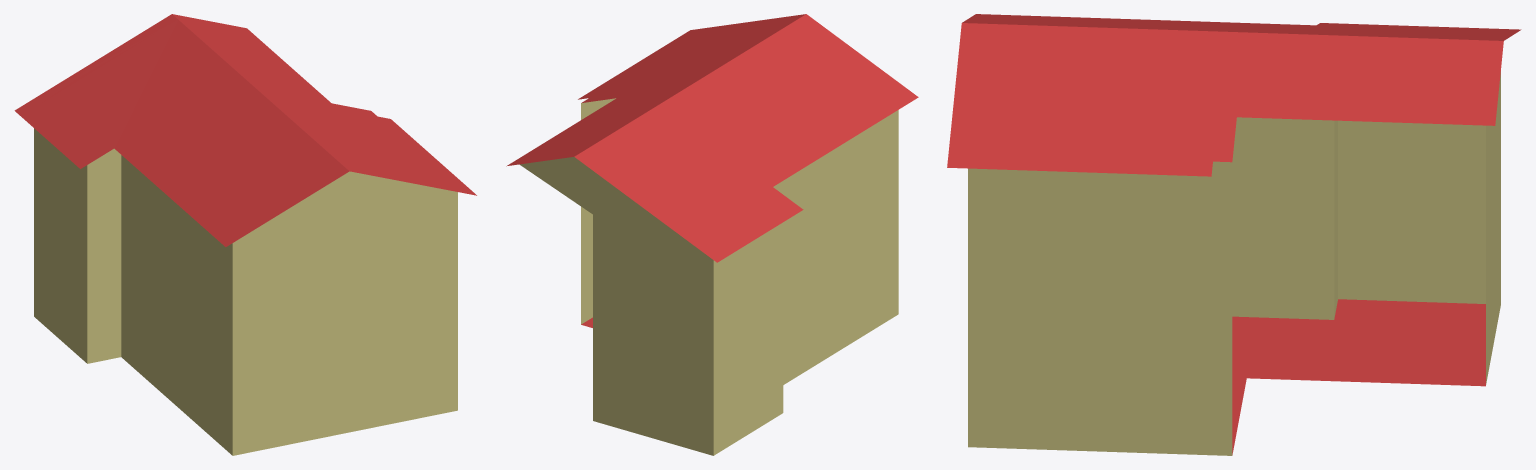
The picture shows the model from 3 angles, left to right: view 1: azimuth 30°, elevation 25°; view 2: azimuth 150°, elevation 25°; view 3: azimuth 270°, elevation 25°; orthographic projection. The views are drawn at different scales.
Bounding box in the file's own units: 10.56 × 14.82 × 10.04.
